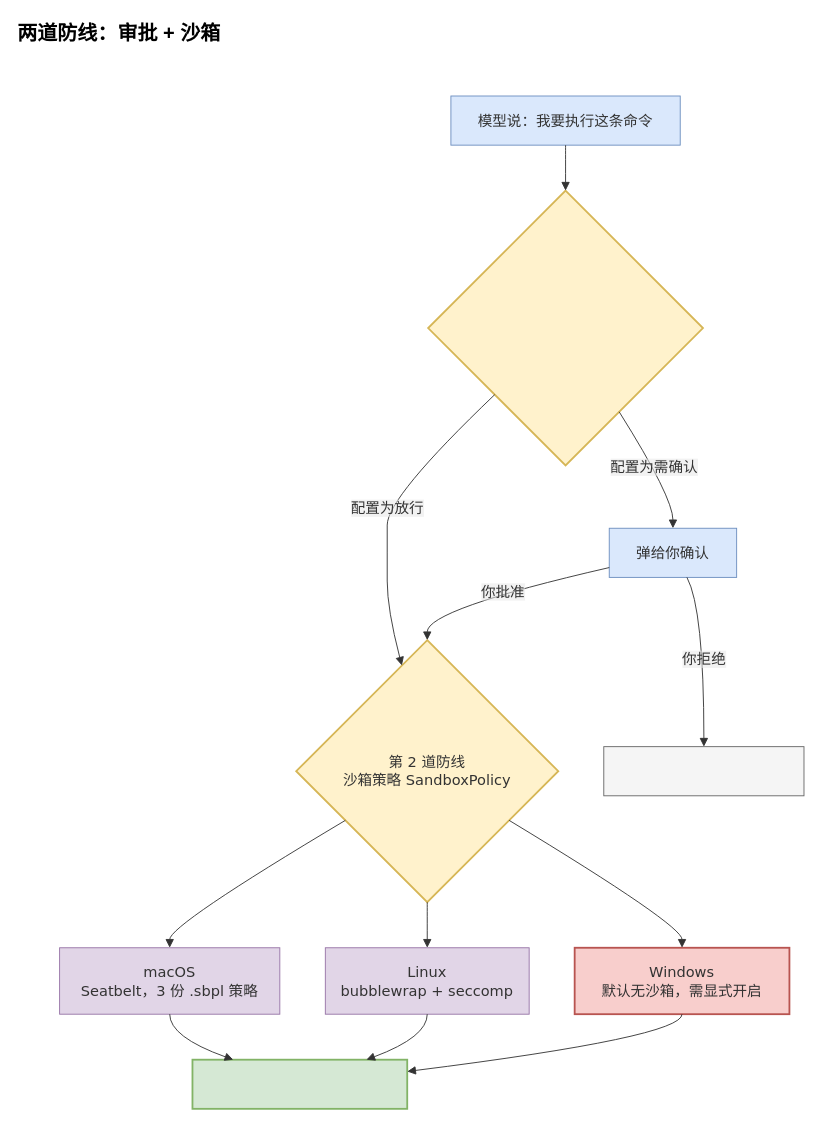
Some shapes in this 820 by 1125 pixel diagram are drawn without their labels. Here are the shapes that lost their labels. From the top down, the box of each, then its label:
(427, 189, 703, 466): 第 1 道防线 审批策略 AskForApproval
(603, 746, 804, 796): 不执行，告知模型被拒
(191, 1058, 408, 1109): 执行，回收结果喂回模型
